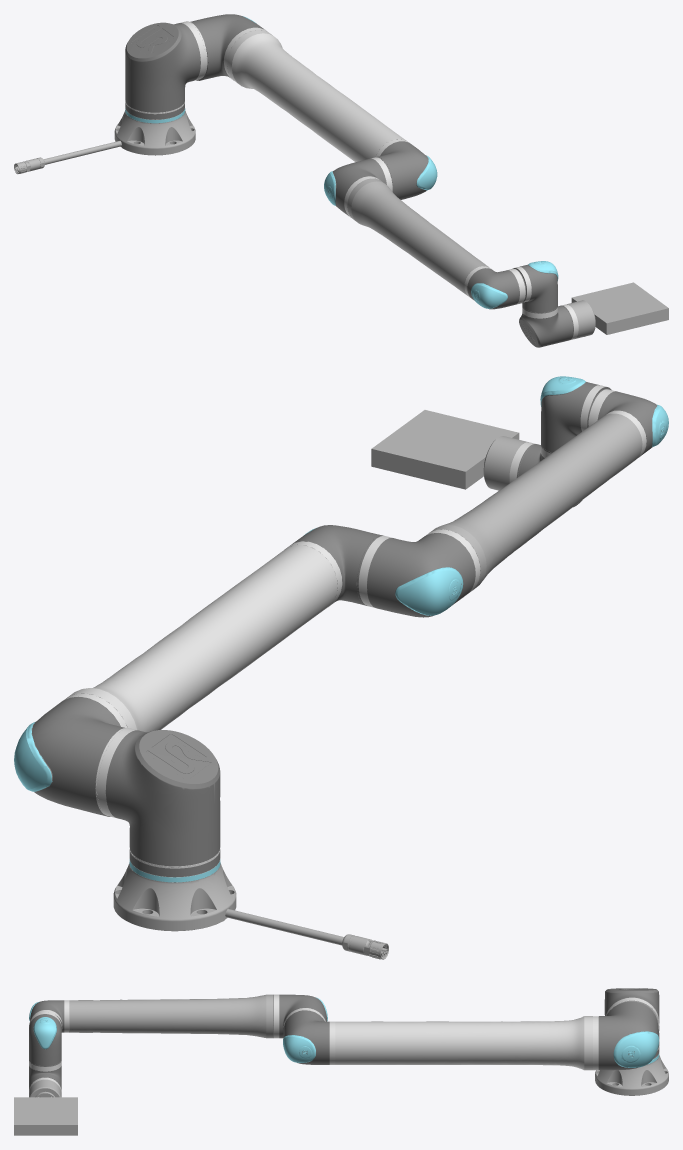
File: UR8L_con_garra.glb
3 views of the same model, one above another, from view 1: azimuth 30°, elevation 25°; view 2: azimuth 150°, elevation 25°; view 3: azimuth 270°, elevation 25° (orthographic). The views are drawn at different scales.
Parts seen in each view (by area): view 1: Joint_2.003, Joint_3.003, Joint_1.003, Base, Joint_6.003, Joint_5.003, Joint_4.003; view 2: Joint_2.003, Joint_3.003, Joint_1.003, Base, Joint_6.003, Joint_4.003, Joint_5.003; view 3: Joint_2.003, Joint_3.003, Joint_6.003, Base, Joint_4.003, Joint_1.003, Joint_5.003.
Part boxes in pixels (x1,y1,x2,y2): Joint_2.003: [190, 14, 437, 199]; Joint_3.003: [324, 157, 526, 309]; Joint_1.003: [125, 21, 207, 112]; Base: [14, 101, 195, 174]; Joint_6.003: [567, 282, 668, 338]; Joint_5.003: [519, 304, 578, 347]; Joint_4.003: [513, 261, 558, 313]; Joint_2.003: [14, 525, 383, 816]; Joint_3.003: [358, 389, 668, 617]; Joint_1.003: [95, 728, 220, 866]; Base: [113, 848, 388, 959]; Joint_6.003: [371, 410, 528, 490]; Joint_4.003: [540, 376, 611, 453]; Joint_5.003: [509, 442, 582, 507]; Joint_2.003: [283, 1001, 659, 1070]; Joint_3.003: [29, 994, 327, 1038]; Joint_6.003: [14, 1079, 77, 1135]; Base: [595, 1046, 668, 1095]; Joint_4.003: [29, 1012, 61, 1066]; Joint_1.003: [604, 988, 659, 1047]; Joint_5.003: [29, 1061, 61, 1092].
Size of the model in its own units: 0.9085 by 0.304 by 1.81.
